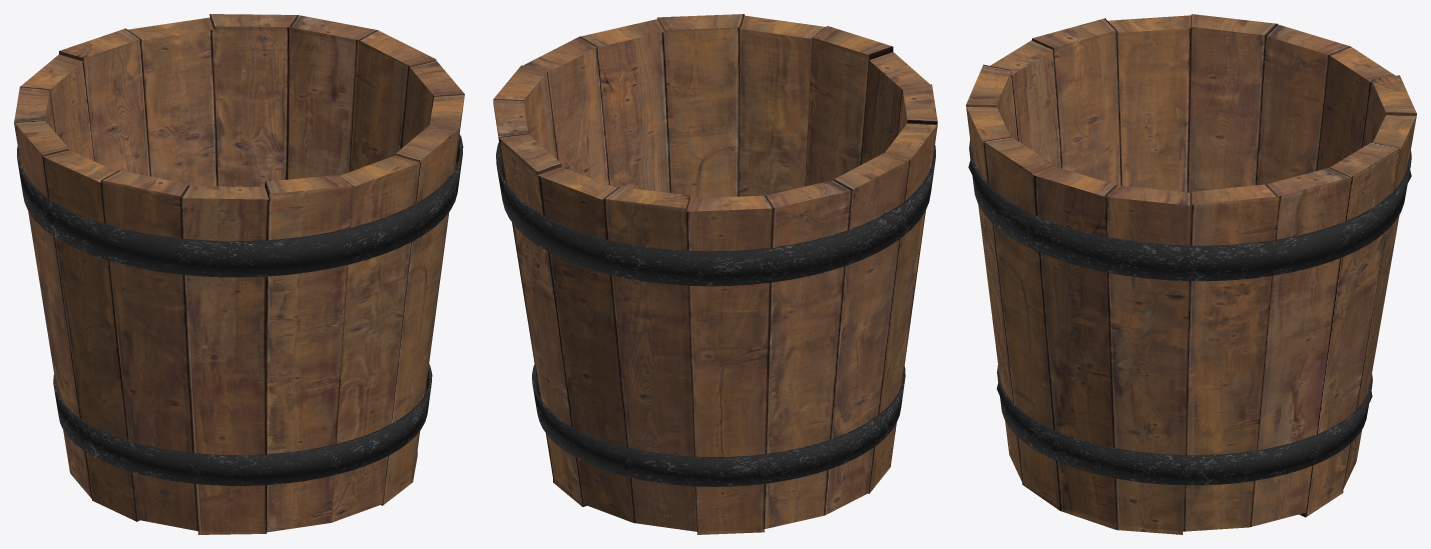
Rendered from bucket.glb.
3 renders of one model, left to right at view 1: azimuth 30°, elevation 25°; view 2: azimuth 150°, elevation 25°; view 3: azimuth 270°, elevation 25°, orthographic.
Parts seen in each view (by area): view 1: mdl_bucket; view 2: mdl_bucket; view 3: mdl_bucket.
Boxes of the visible parts, x1,y1,x2,y2 form: mdl_bucket: (14, 14, 464, 534); mdl_bucket: (493, 14, 937, 534); mdl_bucket: (966, 14, 1416, 534).
Size of the model in its own units: 3196 by 2851 by 3196.
1 material, 1 textured.
